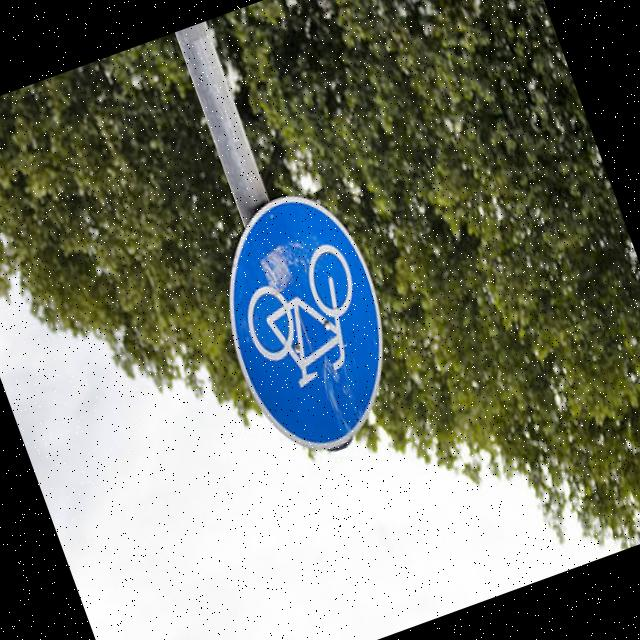bicycle: (186, 167, 432, 483)
